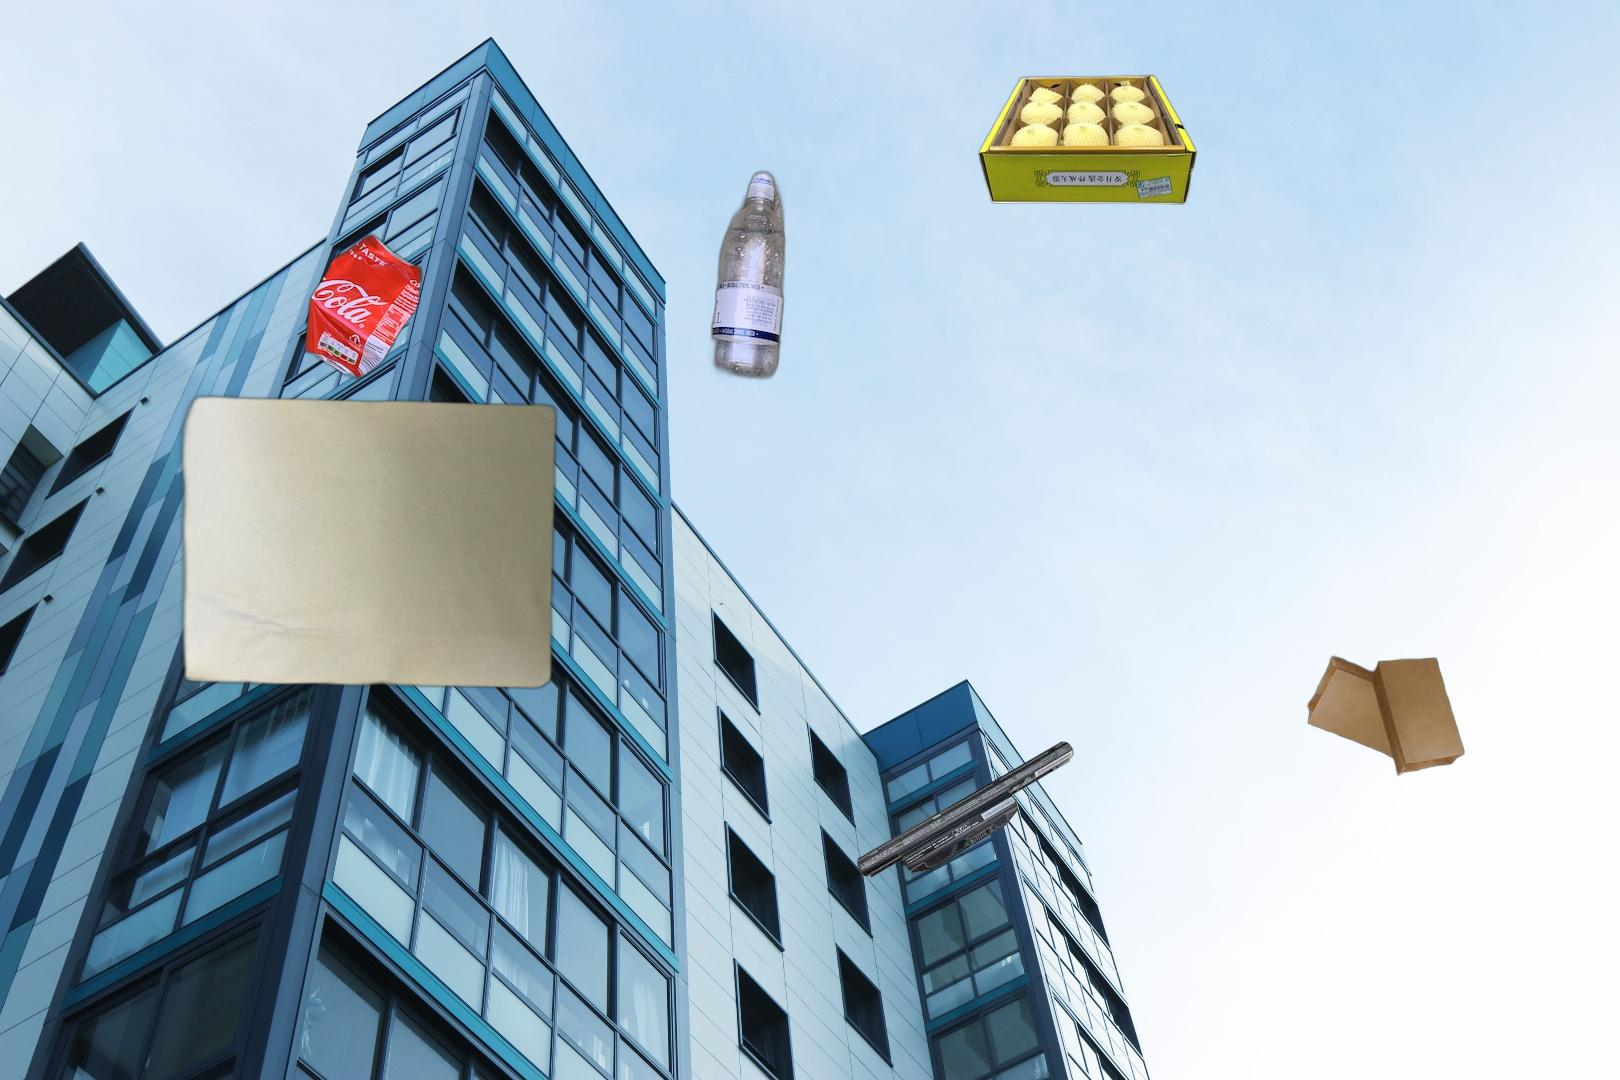battery: (855, 739, 1076, 880)
metal-cans: (300, 229, 427, 385)
paper: (175, 354, 560, 692)
paper-bag: (1304, 653, 1467, 777)
plastic-bottles: (706, 166, 790, 385)
trashbox-cardboard: (976, 72, 1201, 207)
